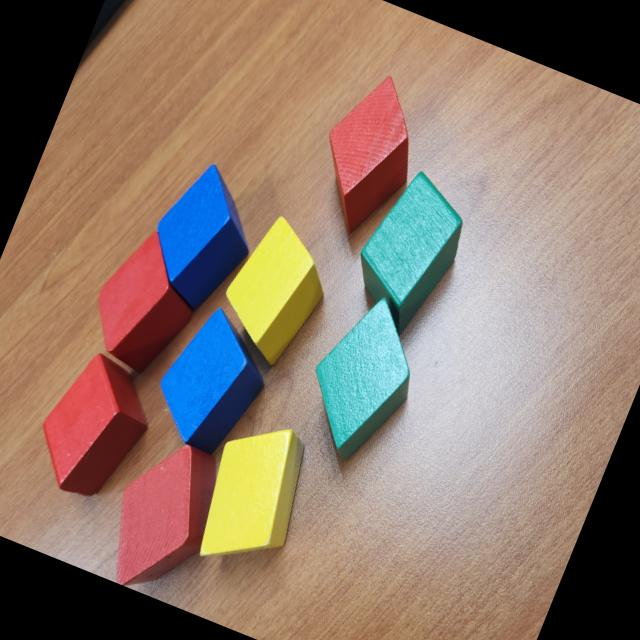blue: (140, 296, 285, 466), (132, 152, 275, 322)
green: (287, 281, 440, 474), (336, 162, 480, 346)
red: (297, 62, 441, 246), (90, 429, 235, 607), (22, 341, 168, 512), (75, 218, 218, 384)
yellow: (180, 408, 326, 584), (206, 208, 344, 375)
